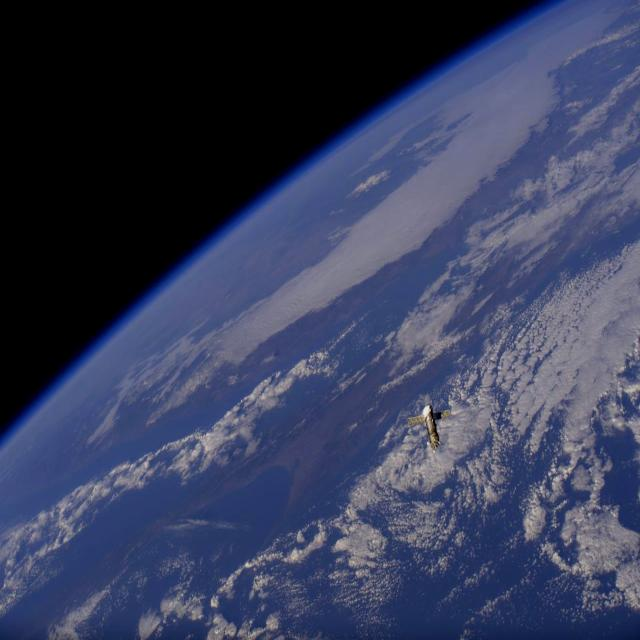satellite: (409, 403, 451, 451)
